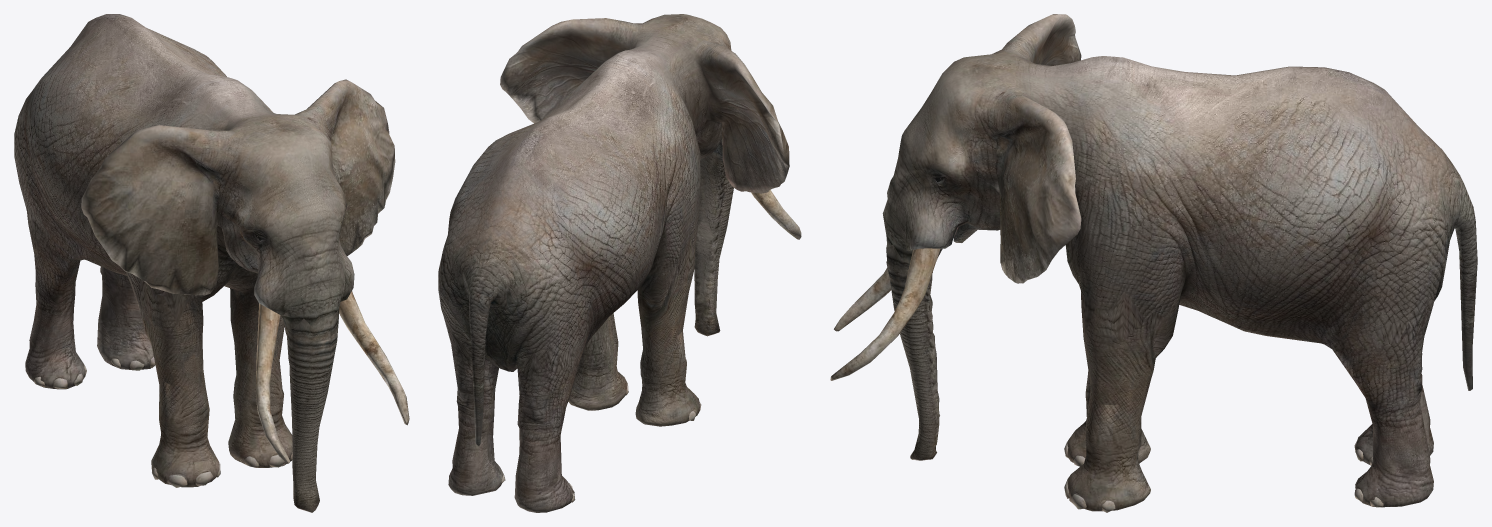
The model's file is earth3d2-african-elephant.glb.
3 views of the same model, side by side, from view 1: azimuth 30°, elevation 25°; view 2: azimuth 150°, elevation 25°; view 3: azimuth 270°, elevation 25° (orthographic). The views are drawn at different scales.
Parts seen in each view (by area): view 1: Object_125; view 2: Object_125; view 3: Object_125.
Boxes of the visible parts, x1,y1,x2,y2 form: Object_125: [14, 14, 409, 512]; Object_125: [438, 14, 801, 512]; Object_125: [830, 14, 1477, 512].
Bounding box in the file's own units: 0.0277 × 0.0328 × 0.0461.
1 material, 1 textured.
